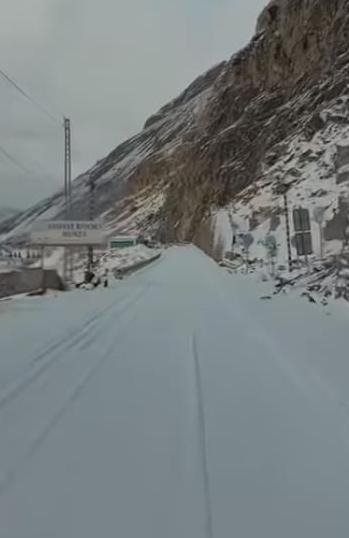sharp_turn: (59, 218, 279, 538)
